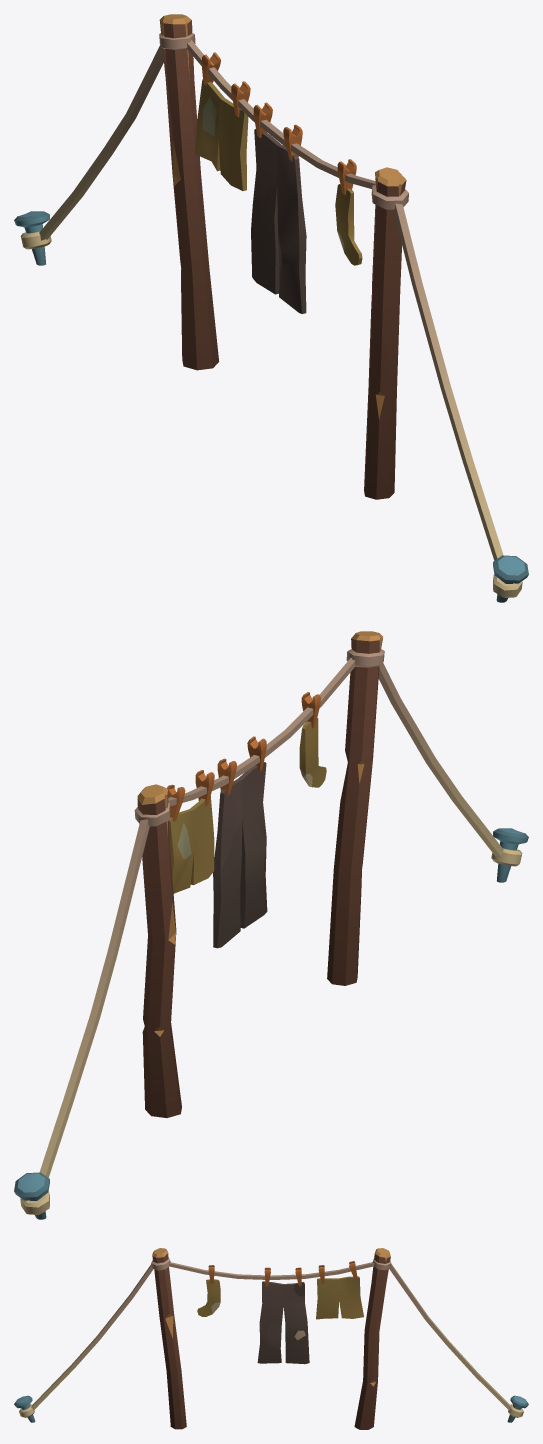
The model's file is Laundry_B.glb.
The picture shows the model from 3 angles, top to bottom: view 1: azimuth 30°, elevation 25°; view 2: azimuth 150°, elevation 25°; view 3: azimuth 270°, elevation 25°; orthographic projection. The views are drawn at different scales.
Parts seen in each view (by area): view 1: Laundry_B; view 2: Laundry_B; view 3: Laundry_B.
Part boxes in pixels (x1,y1,x2,y2): Laundry_B: (14,14,528,602); Laundry_B: (14,631,528,1219); Laundry_B: (14,1248,528,1429).
Size of the model in its own units: 0.236 by 1.54 by 4.13.
Materials: 2 (2 with a texture image).
